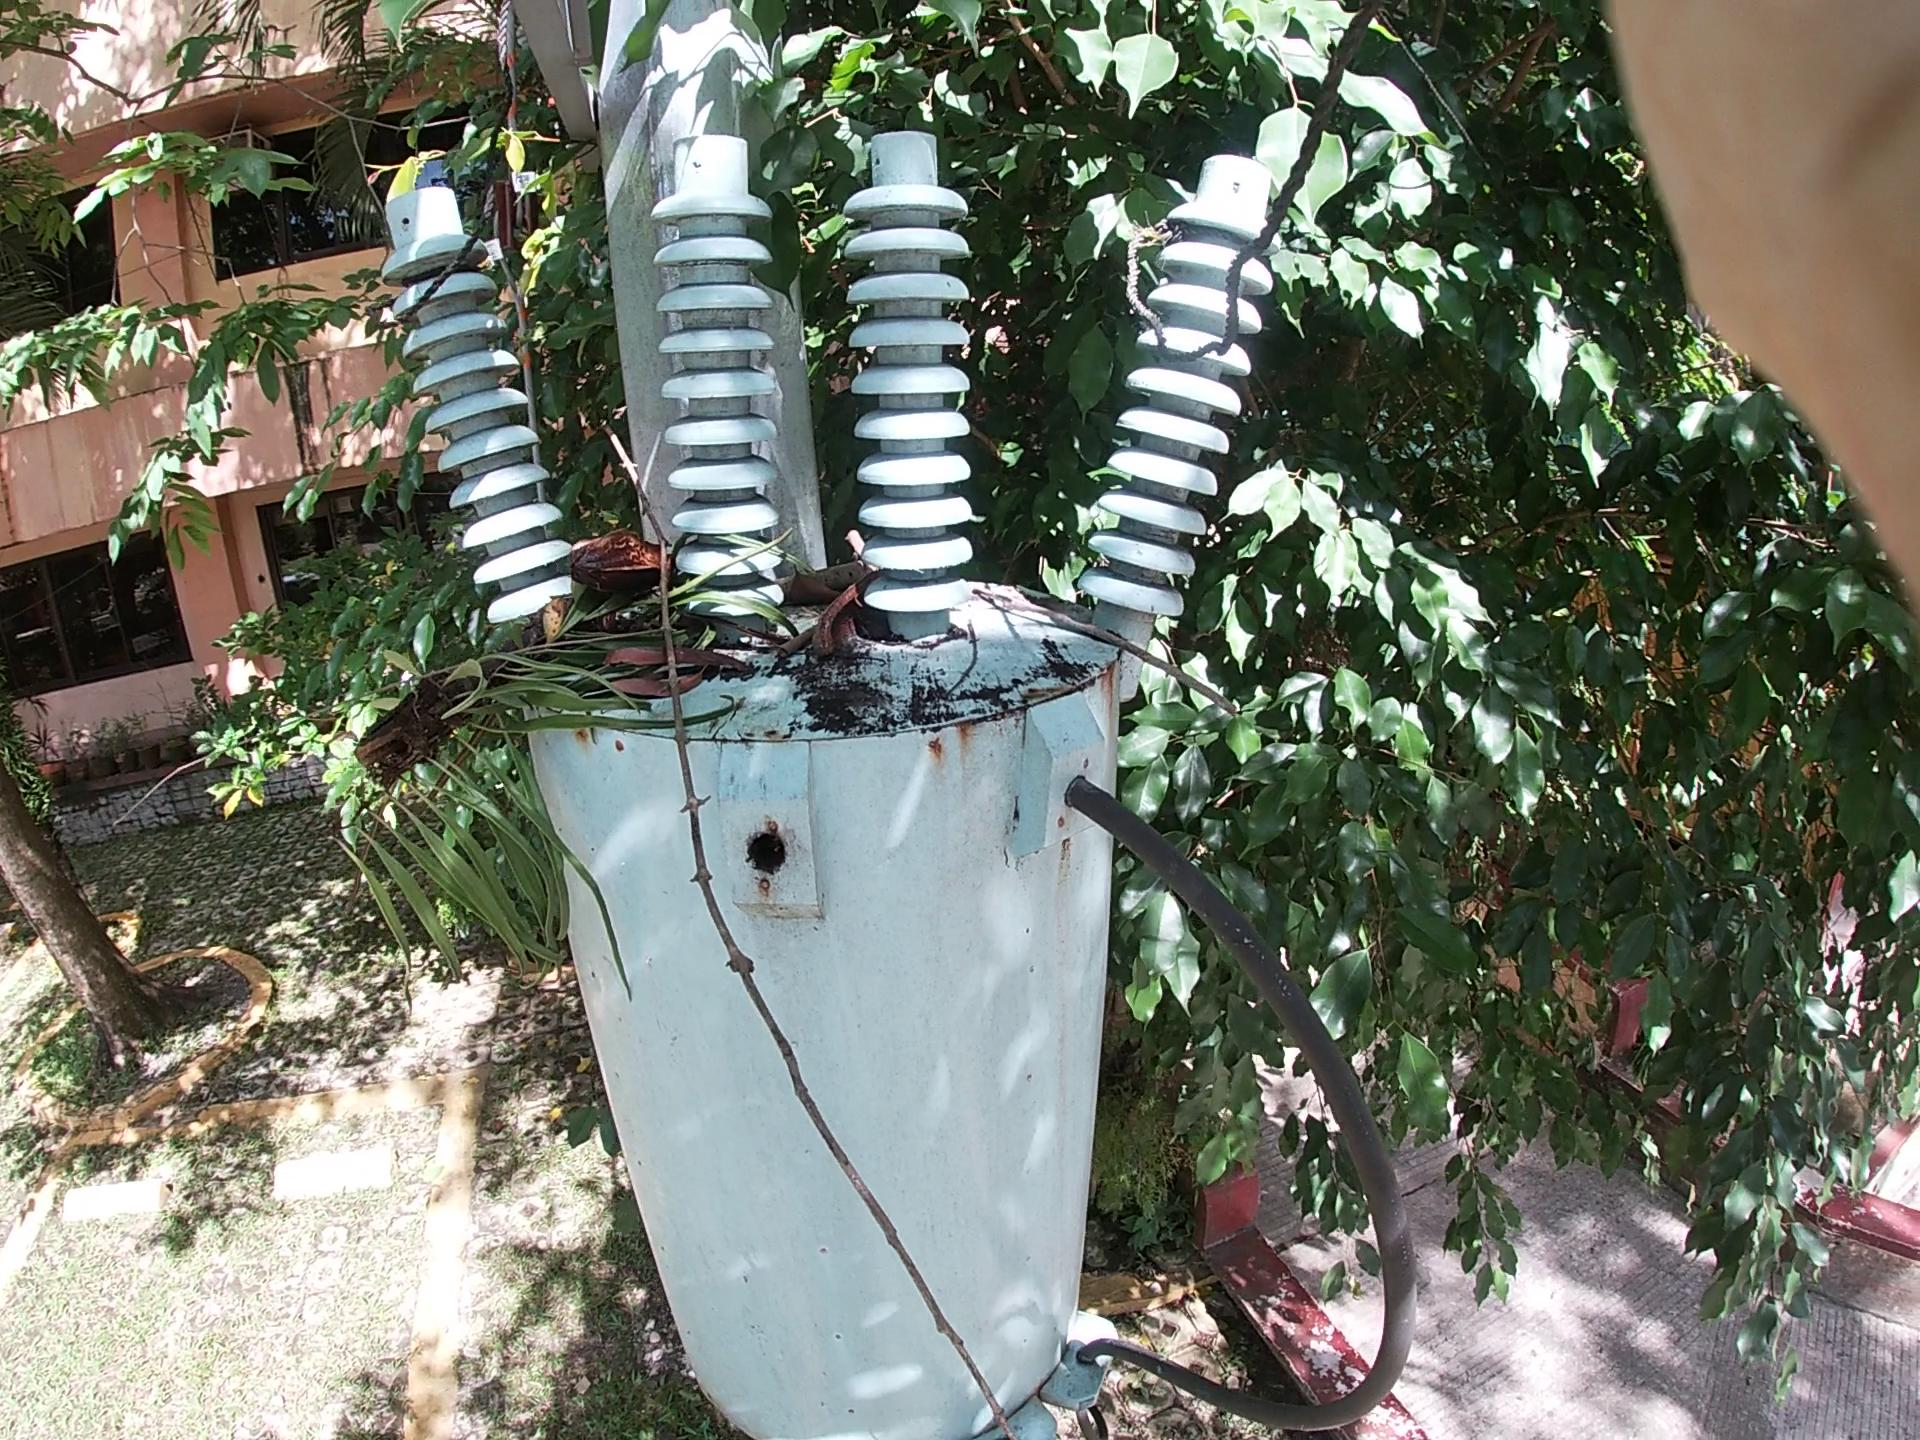branch with leaves: (296, 343, 919, 1016)
leaf: (488, 2, 1197, 321)
mahogany fruit: (531, 511, 723, 625), (782, 551, 883, 675)
tree branch: (565, 352, 1058, 1345), (972, 557, 1346, 756), (732, 569, 1039, 756)
